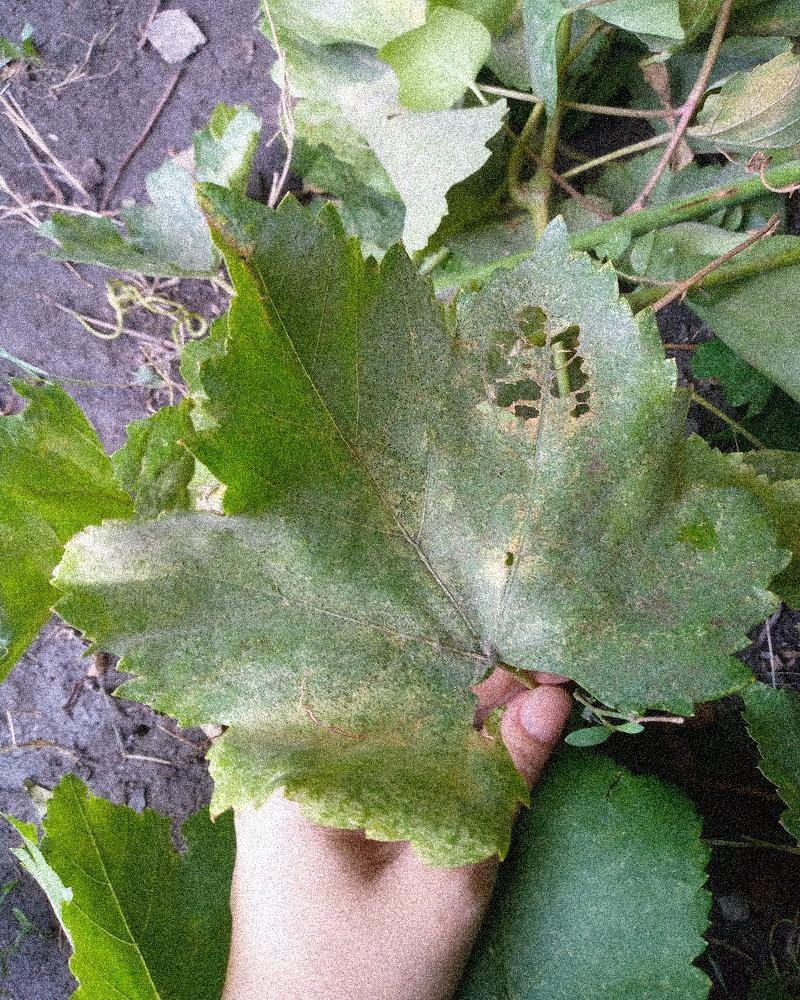Powdery-Mildew: (431, 269, 659, 471), (402, 445, 580, 687), (207, 650, 447, 814), (61, 514, 337, 607), (392, 778, 513, 857), (525, 490, 588, 553)
